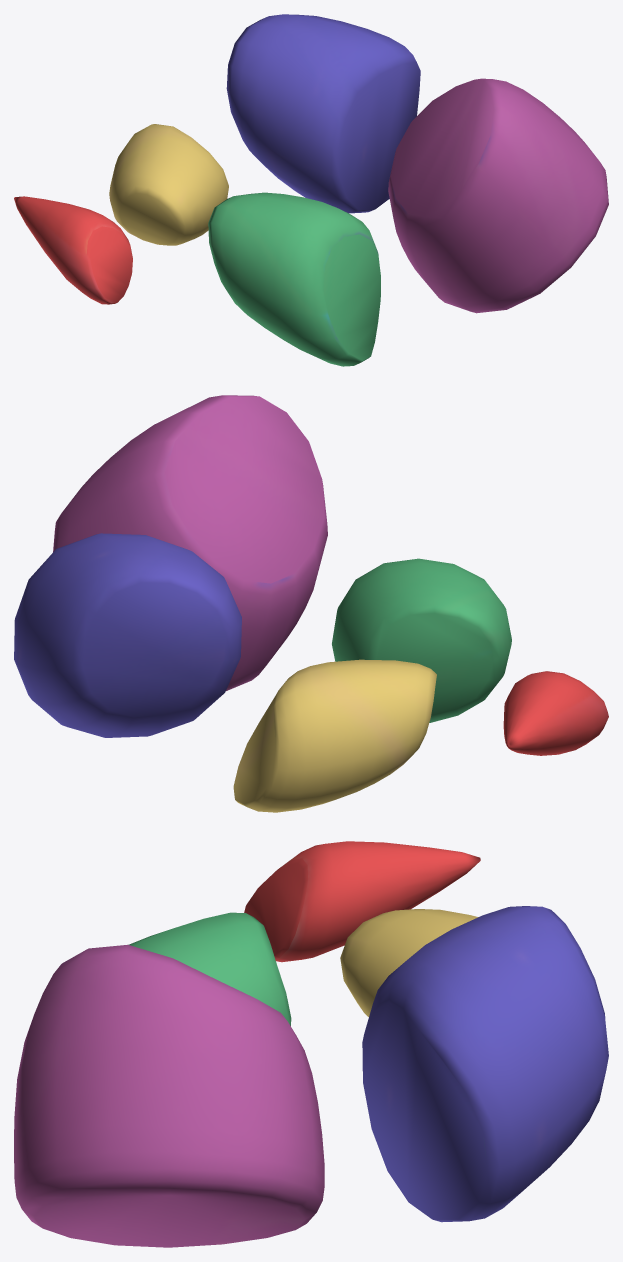
The model's file is ChifreDeUnicornio_cortada.fbx.
The picture shows the model from 3 angles, top to bottom: view 1: azimuth 30°, elevation 25°; view 2: azimuth 150°, elevation 25°; view 3: azimuth 270°, elevation 25°; orthographic projection. The views are drawn at different scales.
Parts seen in each view (by area): view 1: CrinaDeUnicornio_cortada; view 2: CrinaDeUnicornio_cortada; view 3: CrinaDeUnicornio_cortada.
Part boxes in pixels (x1,y1,x2,y2): CrinaDeUnicornio_cortada: [14, 14, 608, 366]; CrinaDeUnicornio_cortada: [14, 395, 608, 812]; CrinaDeUnicornio_cortada: [14, 841, 608, 1247].
Bounding box in the file's own units: 175 × 80 × 130.
Materials: 1 (1 with a texture image).
